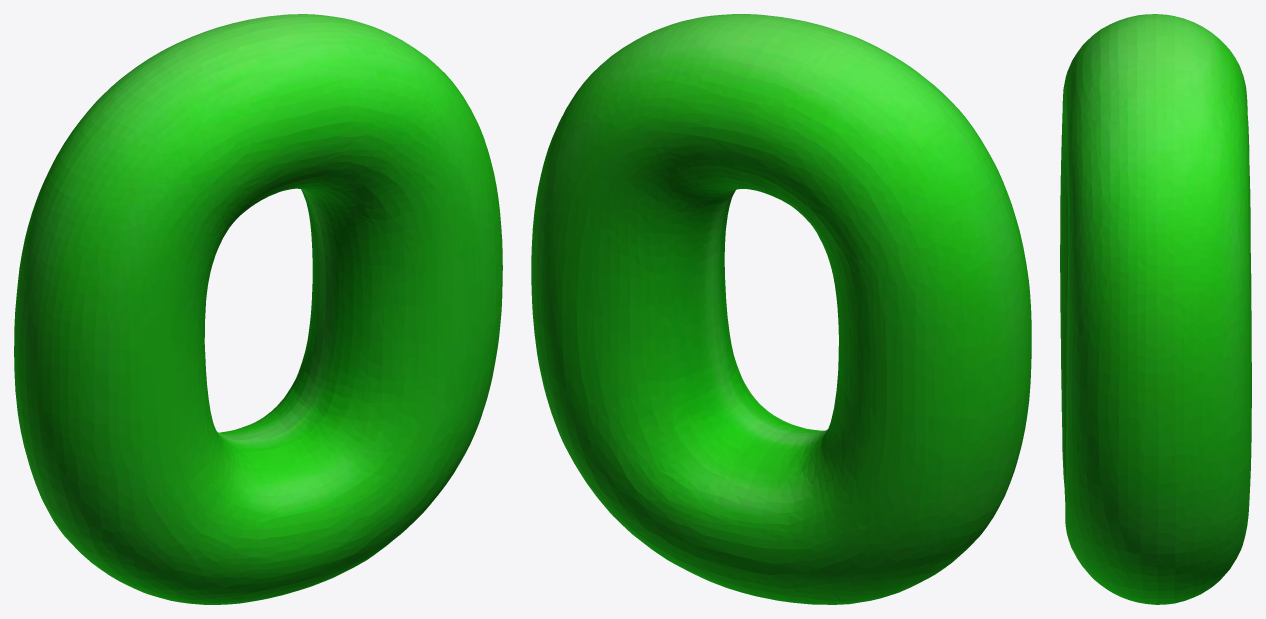
3 renders of one model, left to right at view 1: azimuth 30°, elevation 25°; view 2: azimuth 150°, elevation 25°; view 3: azimuth 270°, elevation 25°, orthographic. The views are drawn at different scales.
Parts seen in each view (by area): view 1: geometry_0; view 2: geometry_0; view 3: geometry_0.
Boxes of the visible parts, bbox=[...] form: geometry_0: bbox=[14, 14, 502, 604]; geometry_0: bbox=[531, 14, 1031, 604]; geometry_0: bbox=[1060, 14, 1251, 604].
Size of the model in its own units: 0.8734 by 0.9998 by 0.3256.
Materials: 1 (1 with a texture image).
